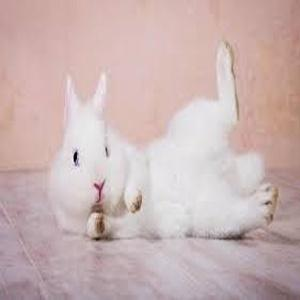rabbit: (48, 42, 278, 238)
